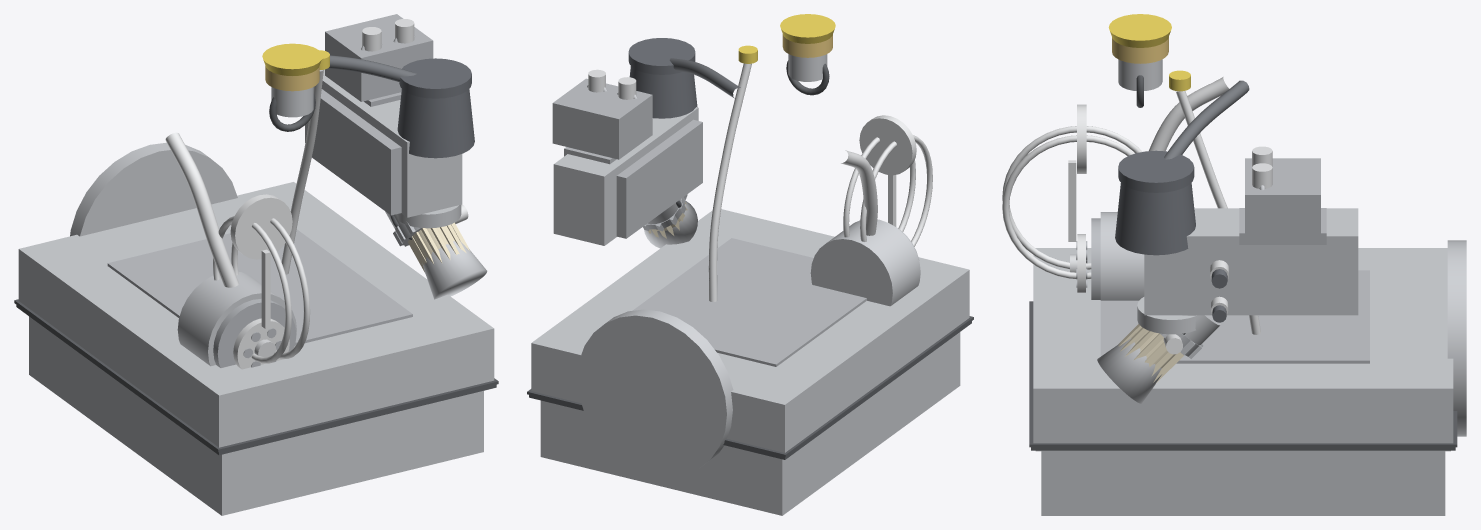
The model's file is oil.glb.
3 renders of one model, left to right at view 1: azimuth 30°, elevation 25°; view 2: azimuth 150°, elevation 25°; view 3: azimuth 270°, elevation 25°, orthographic. The views are drawn at different scales.
Visible parts, largest first — view 1: oilSumpUpperPart, sumpBody, sumpUpperVoid, sealingFlange, conductFlange, conductBody, coolerBody, separatorBody, pumpBody, crankSprocket, sumpSealBeadOuter, oilPipe (+15 smaller); view 2: oilSumpUpperPart, sealingFlange, sumpBody, sumpUpperVoid, conductBody, pumpBody, conductFlange, coolerBody, crankSprocket, separatorBody, dipstickTube, separatorCap (+10 smaller); view 3: oilSumpUpperPart, sumpBody, conductBody, sumpUpperVoid, coolerBody, separatorBody, sealingFlange, sumpSealBeadOuter, pumpBody, separatorCap, filterCoverDome, chainRunR (+16 smaller).
Boxes of the visible parts, <box> form: oilSumpUpperPart: <box>18,182,494,447</box>; sumpBody: <box>29,316,483,515</box>; sumpUpperVoid: <box>107,229,412,345</box>; sealingFlange: <box>70,142,237,236</box>; conductFlange: <box>308,89,401,215</box>; conductBody: <box>305,69,462,217</box>; coolerBody: <box>325,14,433,101</box>; separatorBody: <box>397,89,474,158</box>; pumpBody: <box>177,272,296,366</box>; crankSprocket: <box>230,194,292,259</box>; sumpSealBeadOuter: <box>14,299,498,452</box>; oilPipe: <box>165,132,238,287</box>; oilSumpUpperPart: <box>531,209,969,452</box>; sealingFlange: <box>577,309,733,476</box>; sumpBody: <box>540,332,960,515</box>; sumpUpperVoid: <box>633,238,866,366</box>; conductBody: <box>553,107,698,245</box>; pumpBody: <box>810,219,920,306</box>; conductFlange: <box>616,119,702,238</box>; coolerBody: <box>552,78,652,159</box>; crankSprocket: <box>859,115,916,175</box>; separatorBody: <box>629,66,697,118</box>; dipstickTube: <box>708,63,751,301</box>; separatorCap: <box>628,38,695,74</box>; oilSumpUpperPart: <box>1033,248,1453,443</box>; sumpBody: <box>1041,451,1445,515</box>; conductBody: <box>1144,208,1358,315</box>; sumpUpperVoid: <box>1100,270,1369,363</box>; coolerBody: <box>1245,158,1320,240</box>; separatorBody: <box>1115,183,1195,255</box>; sealingFlange: <box>1447,240,1466,436</box>; sumpSealBeadOuter: <box>1029,301,1457,447</box>; pumpBody: <box>1100,212,1144,300</box>; separatorCap: <box>1118,150,1194,192</box>; filterCoverDome: <box>1097,338,1161,403</box>; chainRunR: <box>1002,135,1134,278</box>.
Bounding box in the file's own units: 2.47 × 3.07 × 2.93.
